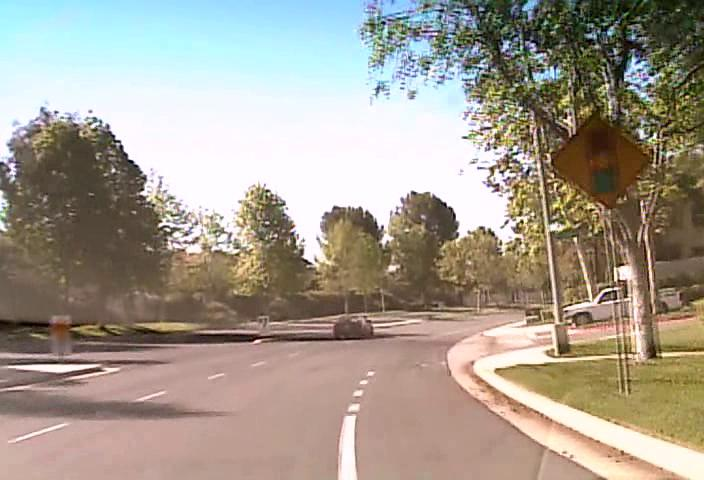signalAhead: (549, 110, 649, 207)
